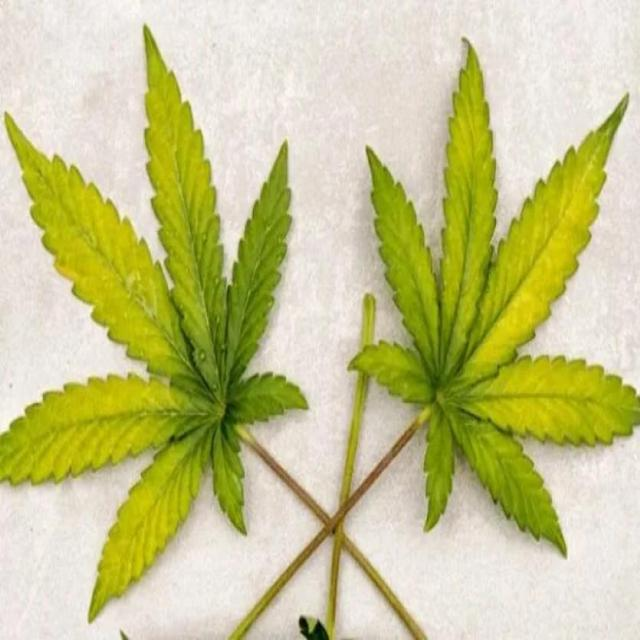cannabis: (0, 27, 308, 624), (346, 39, 639, 558)
